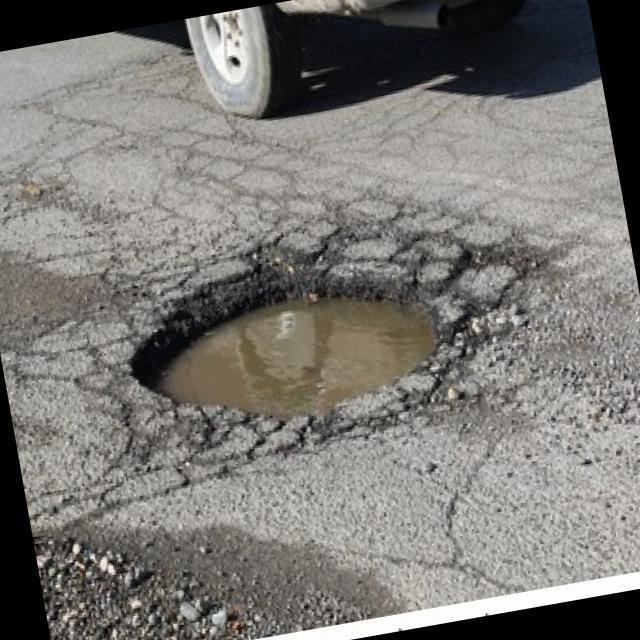pothole: (113, 238, 476, 454)
